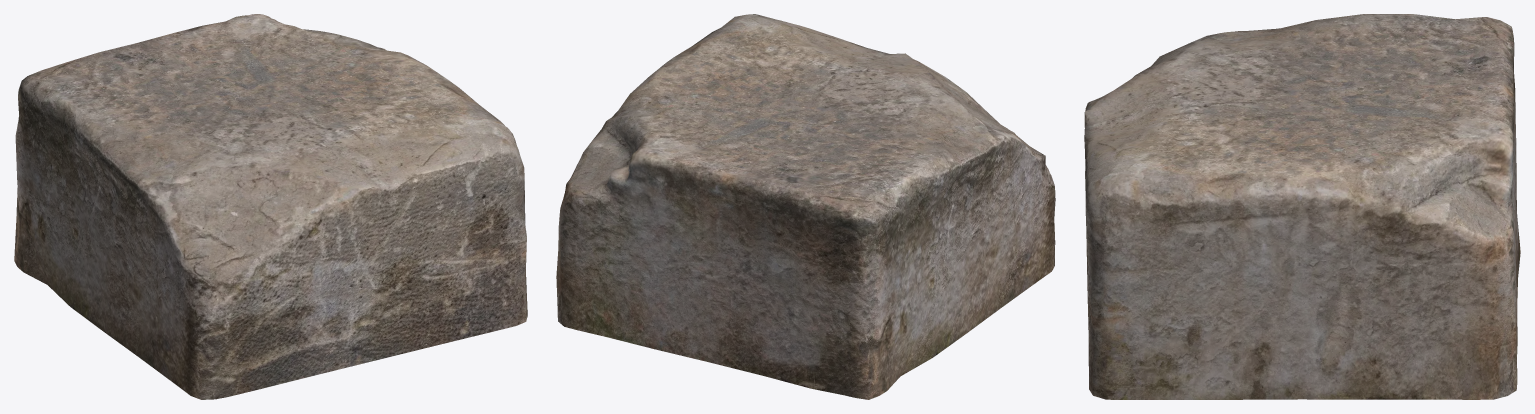
File: base-granite.glb
The picture shows the model from 3 angles, left to right: view 1: azimuth 30°, elevation 25°; view 2: azimuth 150°, elevation 25°; view 3: azimuth 270°, elevation 25°; orthographic projection. The views are drawn at different scales.
Parts seen in each view (by area): view 1: Granite Block_Granite Block PBR_0; view 2: Granite Block_Granite Block PBR_0; view 3: Granite Block_Granite Block PBR_0.
Boxes of the visible parts, x1,y1,x2,y2 form: Granite Block_Granite Block PBR_0: (14,14,527,399); Granite Block_Granite Block PBR_0: (556,14,1055,399); Granite Block_Granite Block PBR_0: (1084,14,1520,399).
Size of the model in its own units: 0.6471 by 0.3574 by 0.6586.
Materials: 1 (1 with a texture image).
